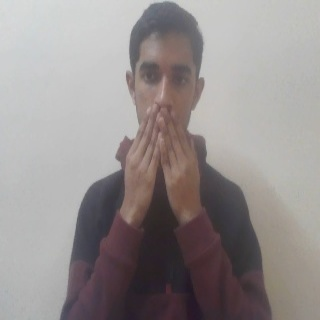Thank You: (119, 107, 208, 228)
